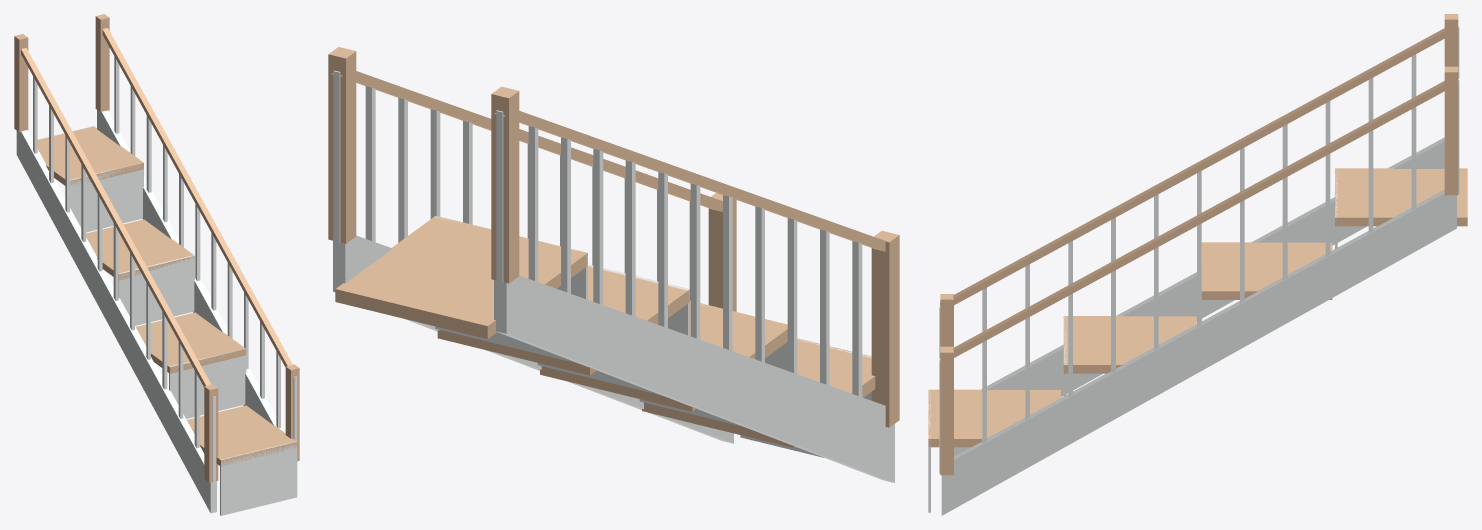
Rendered from stairOakClosed.glb.
3 views of the same model, side by side, from view 1: azimuth 30°, elevation 25°; view 2: azimuth 150°, elevation 25°; view 3: azimuth 270°, elevation 25° (orthographic). The views are drawn at different scales.
Visible parts, largest first — view 1: stairOakClosed; view 2: stairOakClosed; view 3: stairOakClosed.
Boxes of the visible parts, x1,y1,x2,y2 form: stairOakClosed: (14, 14, 299, 515); stairOakClosed: (328, 47, 899, 482); stairOakClosed: (928, 14, 1467, 515).
Bounding box in the file's own units: 0.51 × 1.81 × 1.99.
